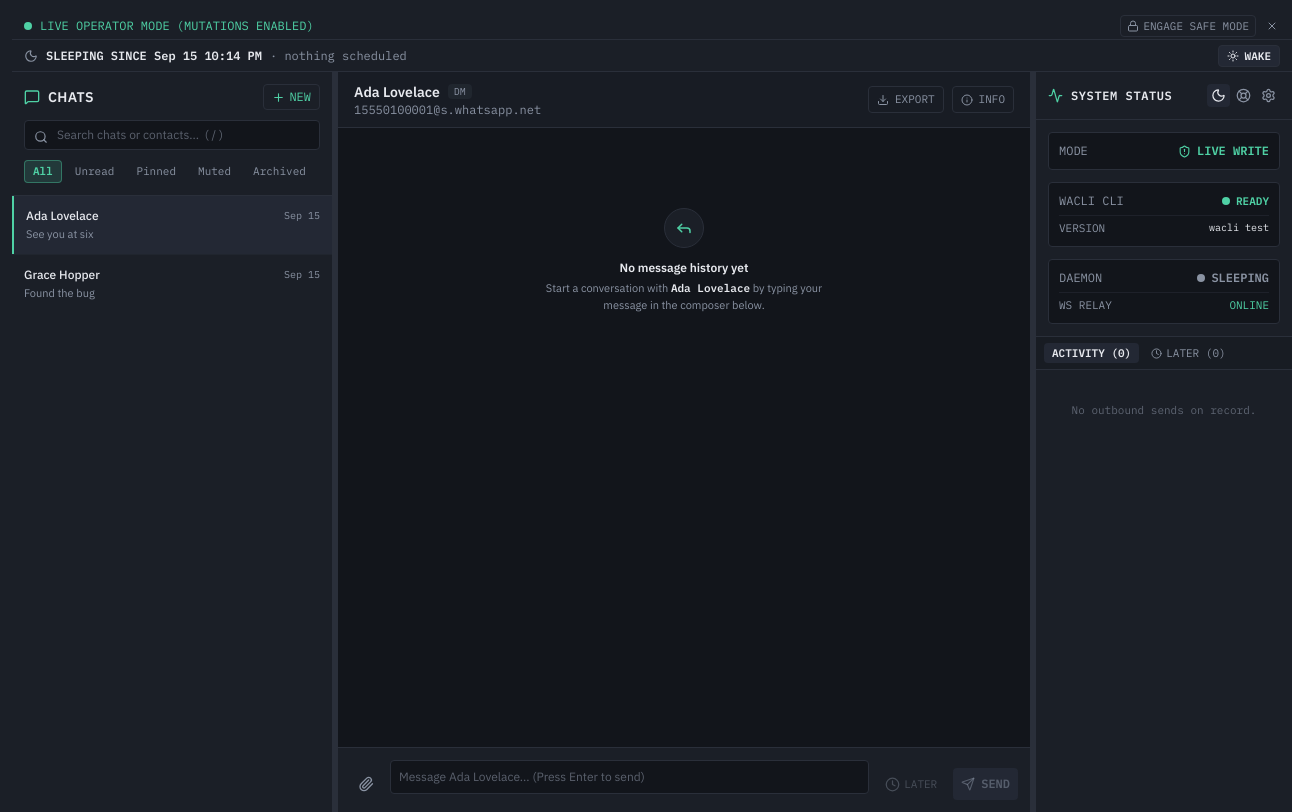
Test: App asleep › wakes when another chat is opened, and ends with that chat loaded
Expected: the message named "sleep mode" is shown, [12,40,1291,72]
Click the text "Grace Hopper" at (62, 275), box [24,267,100,283]
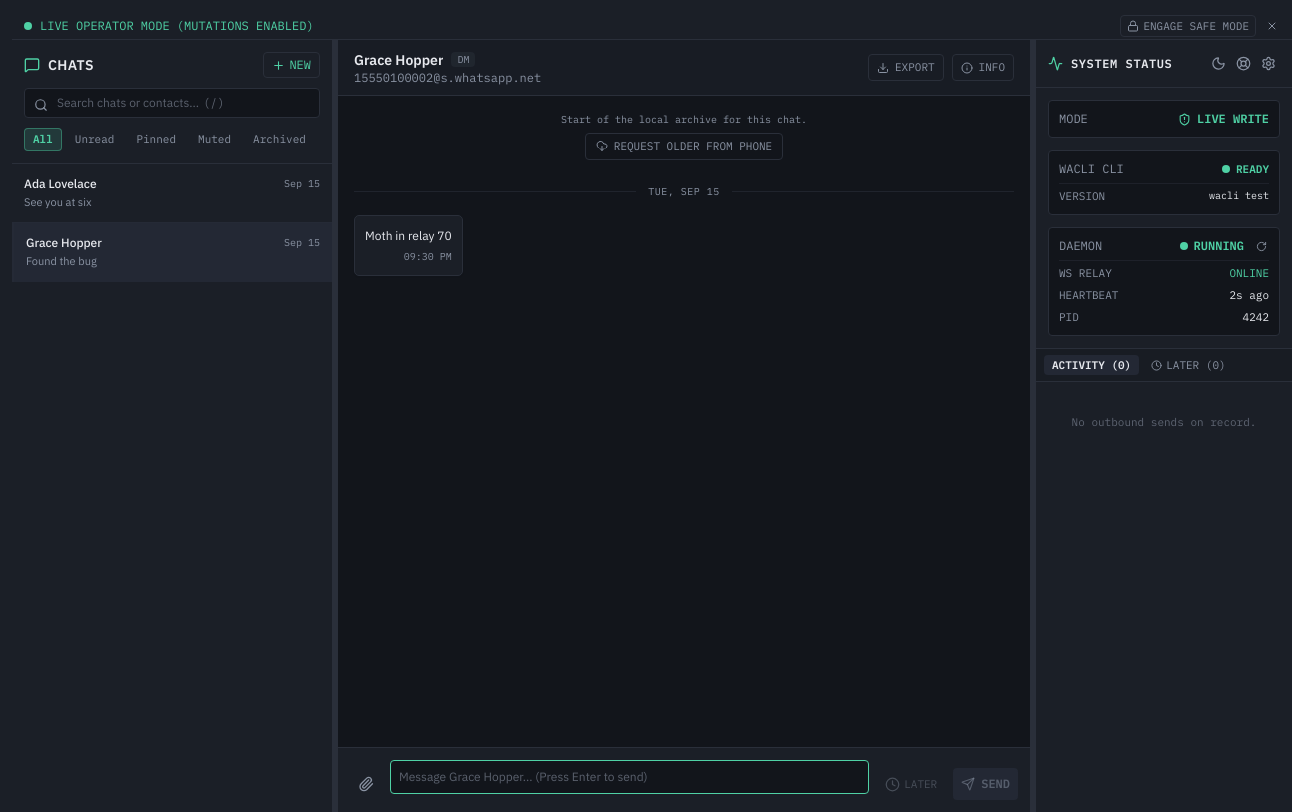
Result: the text "Moth in relay 70" is shown at [365,226,452,245]
